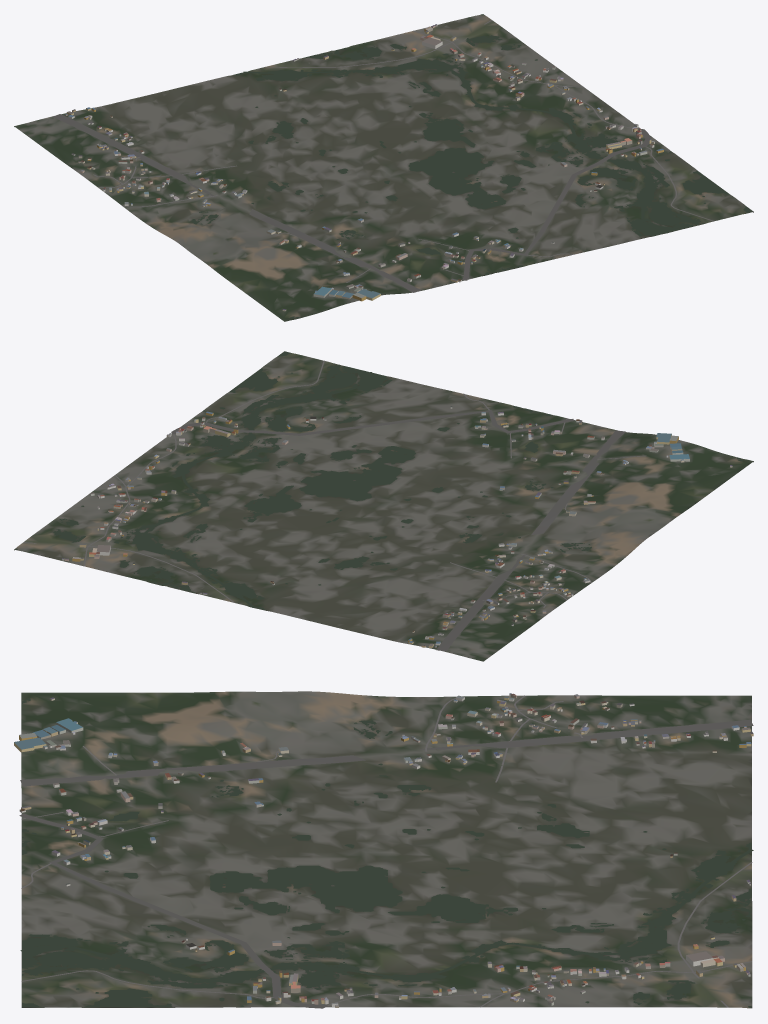
The picture shows the model from 3 angles, top to bottom: view 1: azimuth 30°, elevation 25°; view 2: azimuth 150°, elevation 25°; view 3: azimuth 270°, elevation 25°; orthographic projection. The views are drawn at different scales.
Parts seen in each view (by area): view 1: ground, water, buildings, roads; view 2: ground, water, buildings, roads; view 3: ground, water, buildings, roads.
Part boxes in pixels (box(x1,y1,x2,y2)): ground: box(14, 14, 753, 321); water: box(190, 14, 752, 318); buildings: box(65, 24, 663, 311); roads: box(52, 20, 714, 292); ground: box(14, 352, 753, 661); water: box(15, 351, 742, 609); buildings: box(62, 406, 732, 647); roads: box(23, 360, 646, 651); ground: box(21, 691, 752, 1008); water: box(20, 698, 753, 1007); buildings: box(14, 693, 753, 1007); roads: box(19, 695, 753, 1008).
Size of the model in its own units: 1412 by 33.63 by 1420.
